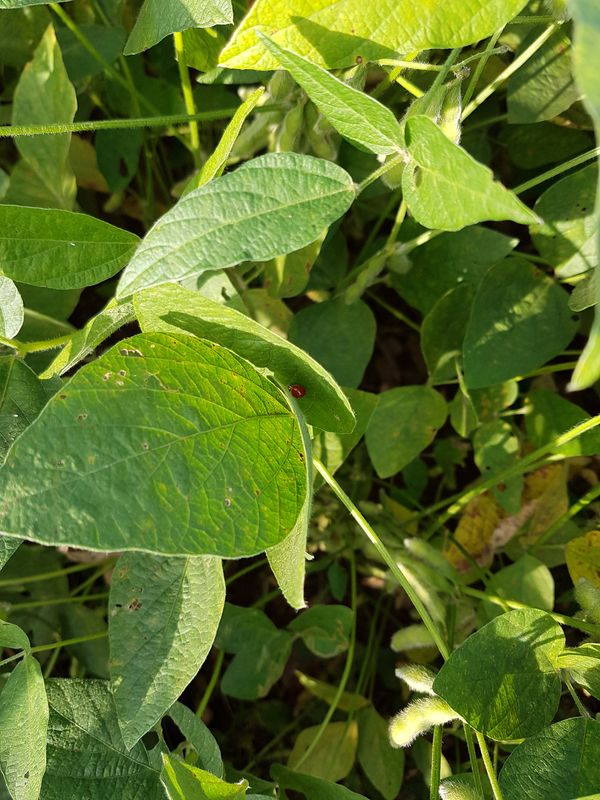Coccinellidae: (283, 378, 311, 405)
